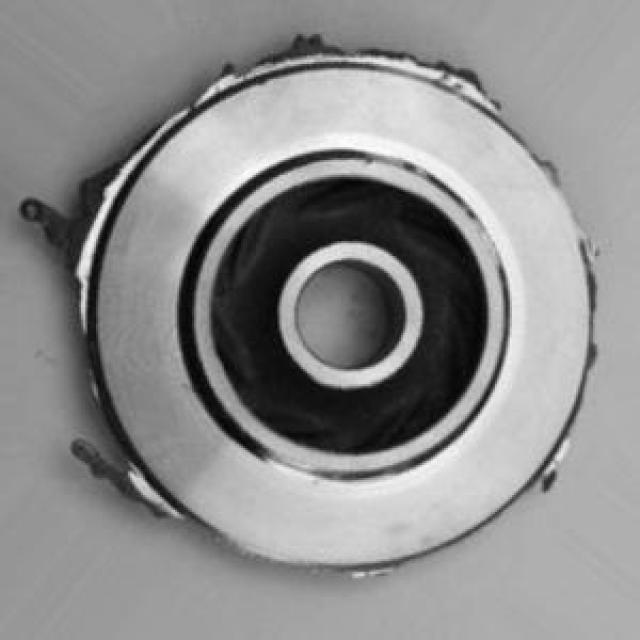Defect: (22, 177, 112, 280)
